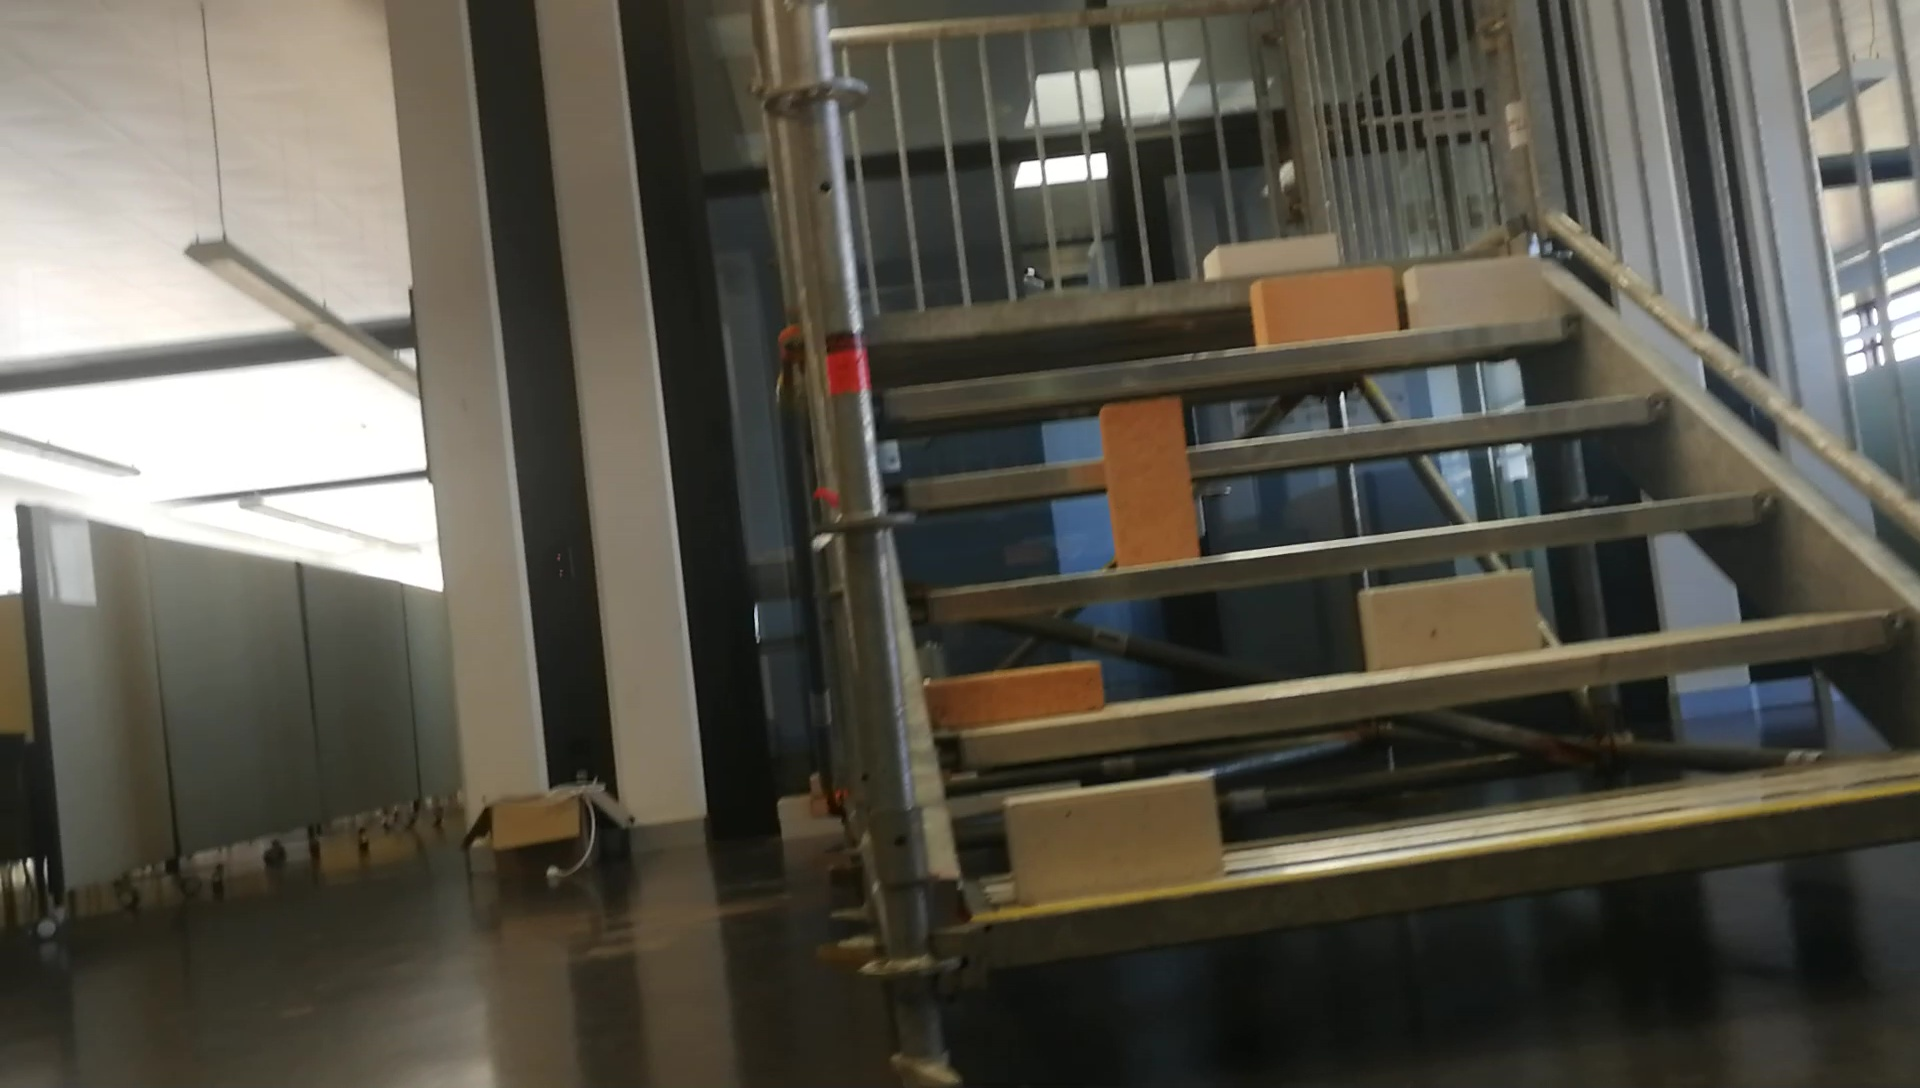brick: (1007, 775, 1218, 902), (1360, 567, 1538, 673), (1100, 401, 1197, 566), (920, 662, 1098, 731), (1255, 270, 1393, 342), (1406, 260, 1540, 326), (1203, 233, 1332, 274)
edge: (988, 790, 1920, 968), (938, 611, 1904, 768), (909, 489, 1774, 609), (893, 394, 1663, 510), (880, 317, 1582, 415)
stairs: (789, 5, 1920, 1085)
steps: (885, 196, 1920, 990)
